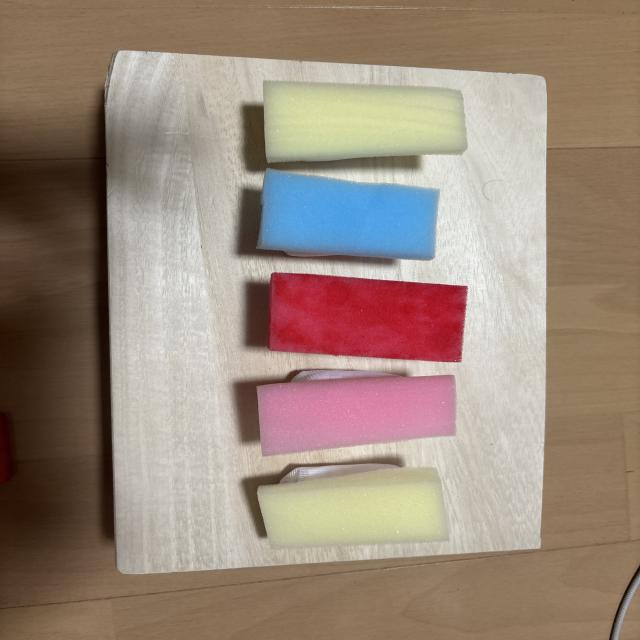ika: (257, 169, 440, 260)
maguro: (268, 273, 467, 362)
tai: (257, 370, 456, 456)
tamago: (263, 81, 467, 162), (257, 464, 448, 548)
